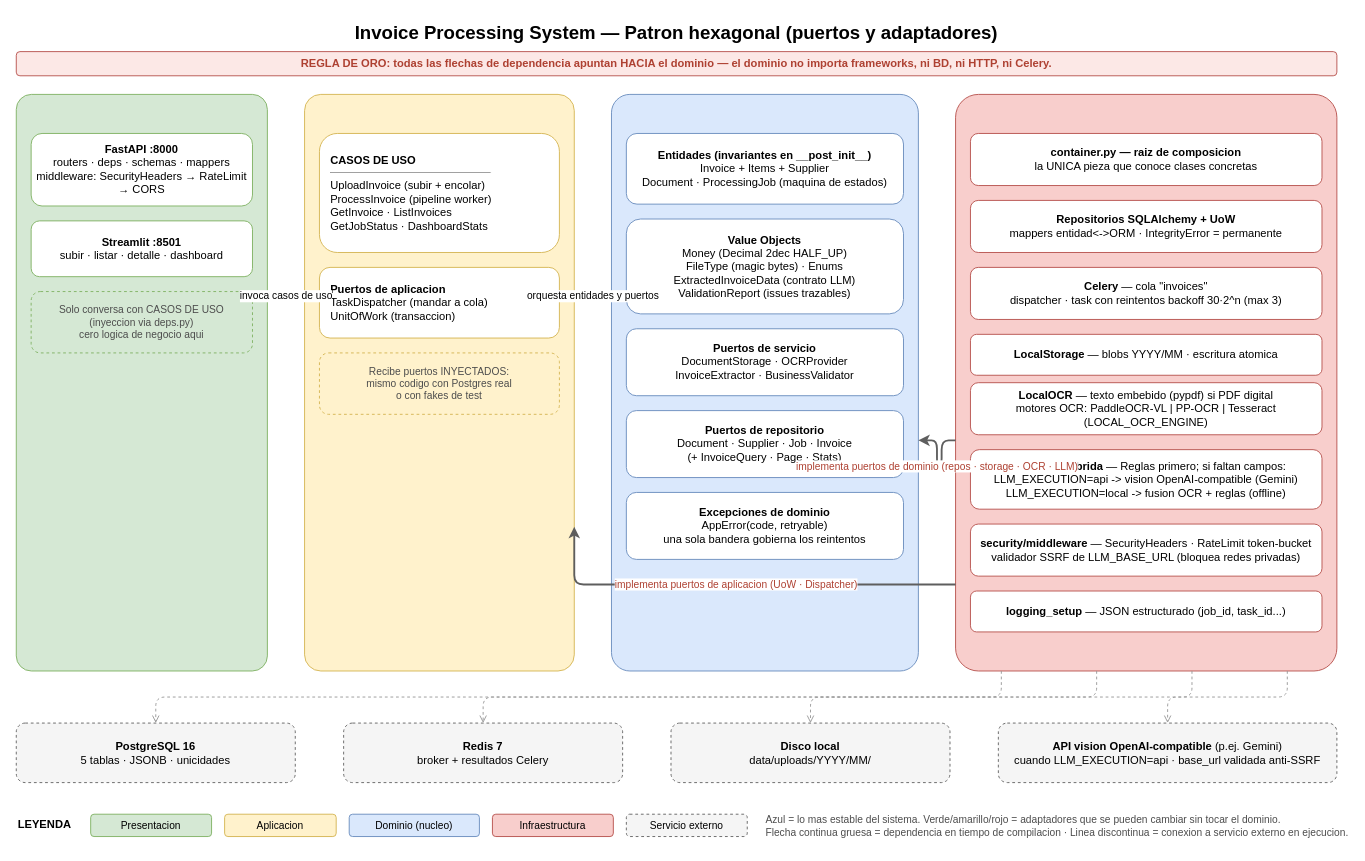
This 1365x861 diagram has some shape labels left out. The shapes that lost their labels are listed below. From the top down, each one's box as (x1, y1, x2, y2) in pixels, then its label:
(15, 93, 267, 671): PRESENTACION (drivers)
(304, 93, 574, 671): APLICACION (orquestacion)
(611, 93, 918, 671): DOMINIO (nucleo estable — cero dependencias tecnicas)
(955, 93, 1337, 671): INFRAESTRUCTURA (adaptadores reemplazables)
